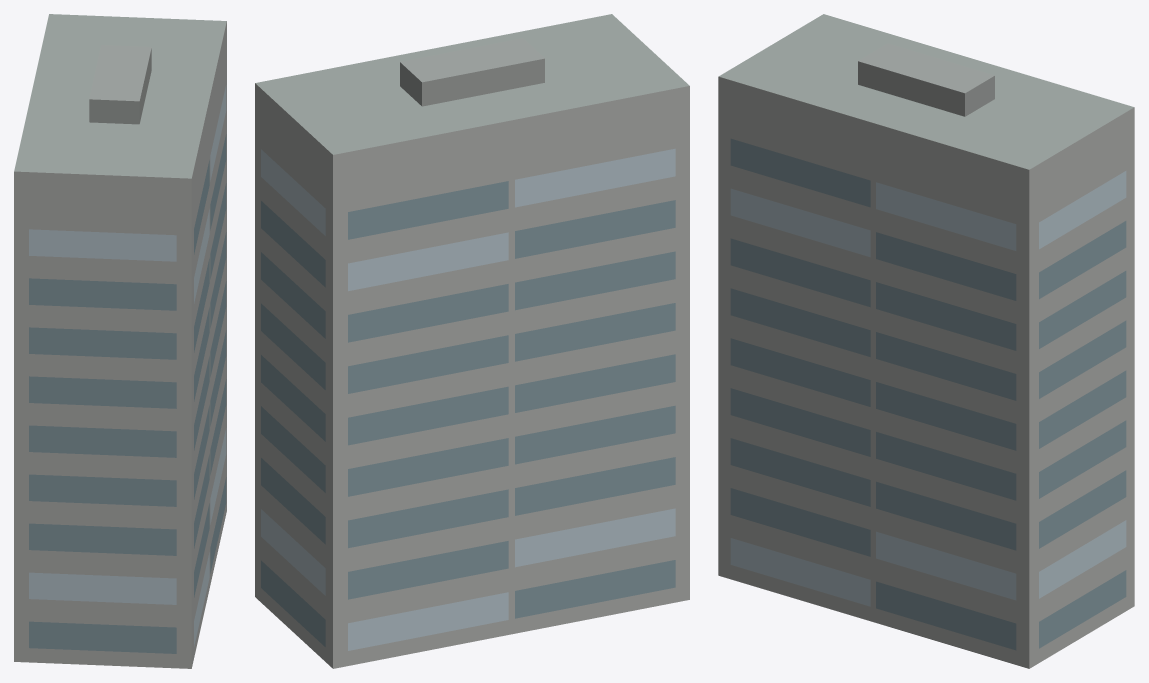
The model's file is fallback-dmc-parkview-xi-completion-404.glb.
3 views of the same model, side by side, from view 1: azimuth 30°, elevation 25°; view 2: azimuth 150°, elevation 25°; view 3: azimuth 270°, elevation 25° (orthographic). The views are drawn at different scales.
Visible parts, largest first — view 1: fallback-dmc-parkview-xi-completion-404; view 2: fallback-dmc-parkview-xi-completion-404; view 3: fallback-dmc-parkview-xi-completion-404.
Boxes of the visible parts, left/top/right/bottom form: fallback-dmc-parkview-xi-completion-404: left=14, top=14, right=226, bottom=668; fallback-dmc-parkview-xi-completion-404: left=255, top=14, right=689, bottom=668; fallback-dmc-parkview-xi-completion-404: left=718, top=14, right=1134, bottom=668.
Bounding box in the file's own units: 19.83 × 31 × 22.36.
